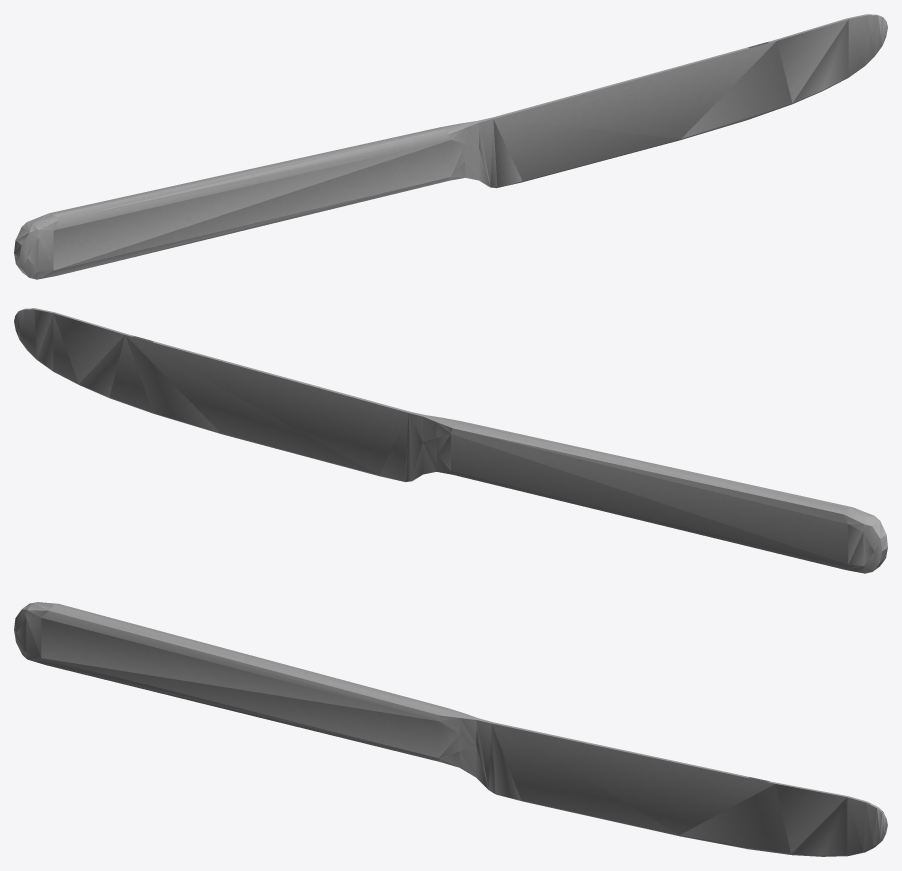
Rendered from TableKnife.obj.
3 views of the same model, one above another, from view 1: azimuth 30°, elevation 25°; view 2: azimuth 150°, elevation 25°; view 3: azimuth 330°, elevation 25° (orthographic).
Visible parts, largest first — view 1: TableKnife; view 2: TableKnife; view 3: TableKnife.
Boxes of the visible parts, x1,y1,x2,y2 form: TableKnife: (14,14,887,279); TableKnife: (14,308,887,573); TableKnife: (14,602,887,856).
Bounding box in the file's own units: 0.2847 × 0.0263 × 0.00702.
1 material, 1 textured.
